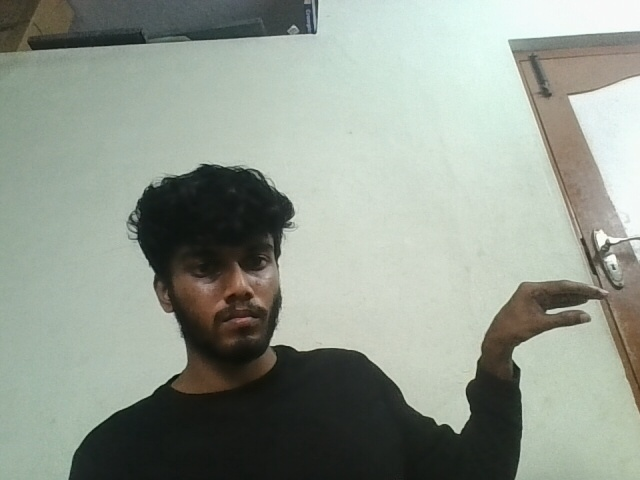no: (475, 270, 624, 357)
